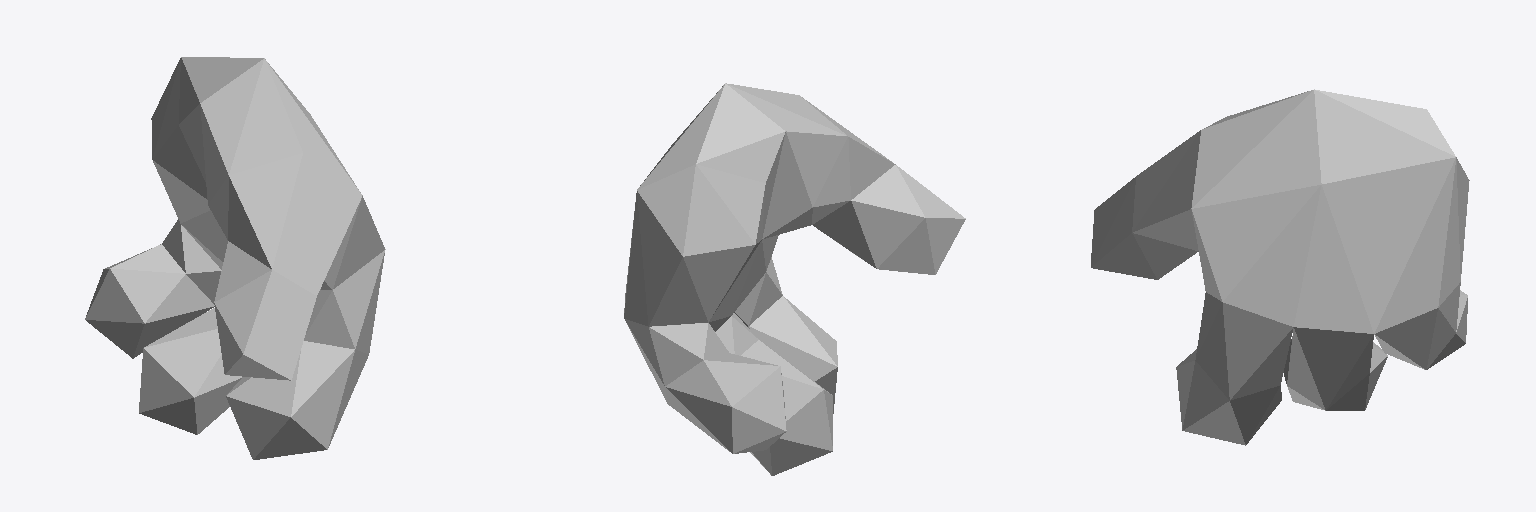
File: raymanLeftHand.obj
3 views of the same model, side by side, from view 1: azimuth 30°, elevation 25°; view 2: azimuth 150°, elevation 25°; view 3: azimuth 270°, elevation 25° (orthographic).
Visible parts, largest first — view 1: R2_Lhand_rayman2; view 2: R2_Lhand_rayman2; view 3: R2_Lhand_rayman2.
Part boxes in pixels (bbox=[...]): R2_Lhand_rayman2: bbox=[85, 57, 385, 459]; R2_Lhand_rayman2: bbox=[624, 83, 965, 475]; R2_Lhand_rayman2: bbox=[1091, 89, 1469, 445].
Bounding box in the file's own units: 1.91 × 3.1 × 2.97.